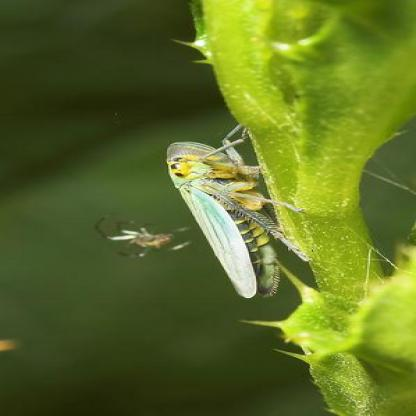Green-Leafhopper: (159, 119, 312, 307)
